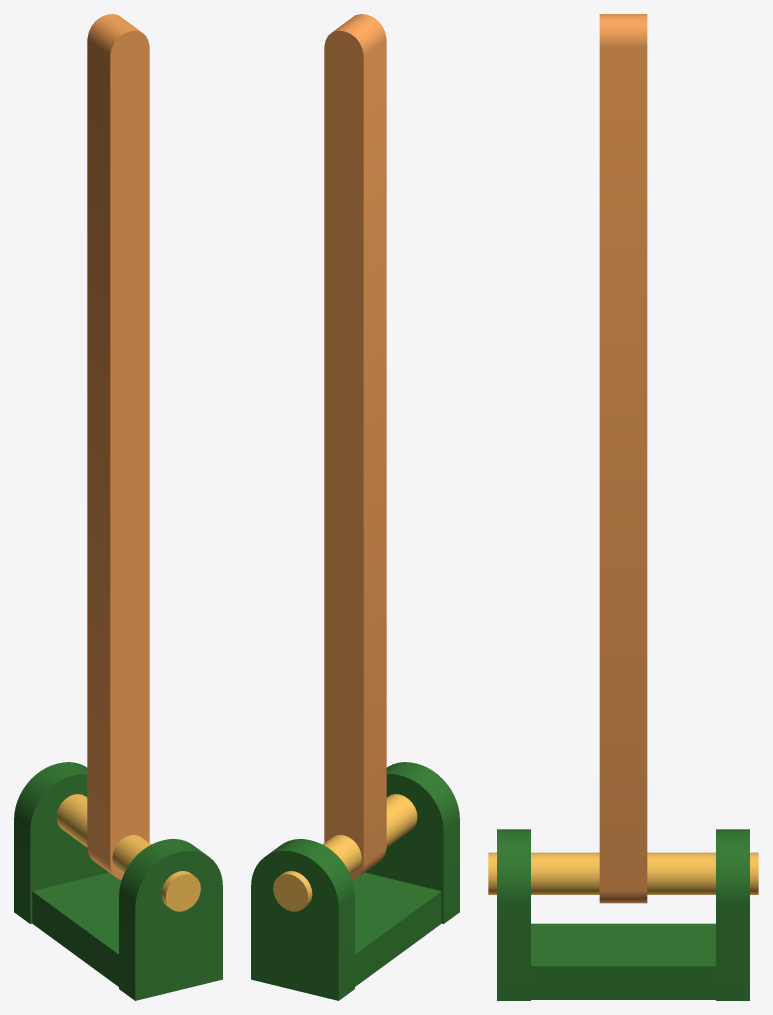
The model's file is Crane A Big.fbx.
3 renders of one model, left to right at view 1: azimuth 30°, elevation 25°; view 2: azimuth 150°, elevation 25°; view 3: azimuth 270°, elevation 25°, orthographic. The views are drawn at different scales.
Parts seen in each view (by area): view 1: Crane BIg, Crane Big, Crane Big.001, Crane Big.002, Crane Big.003; view 2: Crane BIg, Crane Big.001, Crane Big, Crane Big.002, Crane Big.003; view 3: Crane BIg, Crane Big.002, Crane Big.003, Crane Big.001, Crane Big.
Part boxes in pixels (bbox=[...]): Crane BIg: bbox=[87, 14, 149, 879]; Crane Big: bbox=[119, 839, 222, 1000]; Crane Big.001: bbox=[14, 762, 108, 923]; Crane Big.002: bbox=[32, 872, 121, 986]; Crane Big.003: bbox=[56, 794, 200, 911]; Crane BIg: bbox=[324, 14, 386, 879]; Crane Big.001: bbox=[251, 839, 354, 1000]; Crane Big: bbox=[365, 762, 459, 923]; Crane Big.002: bbox=[352, 872, 441, 986]; Crane Big.003: bbox=[273, 794, 417, 911]; Crane BIg: bbox=[599, 14, 647, 903]; Crane Big.002: bbox=[531, 923, 715, 999]; Crane Big.003: bbox=[488, 852, 758, 894]; Crane Big.001: bbox=[716, 829, 749, 1000]; Crane Big: bbox=[497, 829, 530, 1000].
Size of the model in its own units: 53.12 by 534 by 136.
